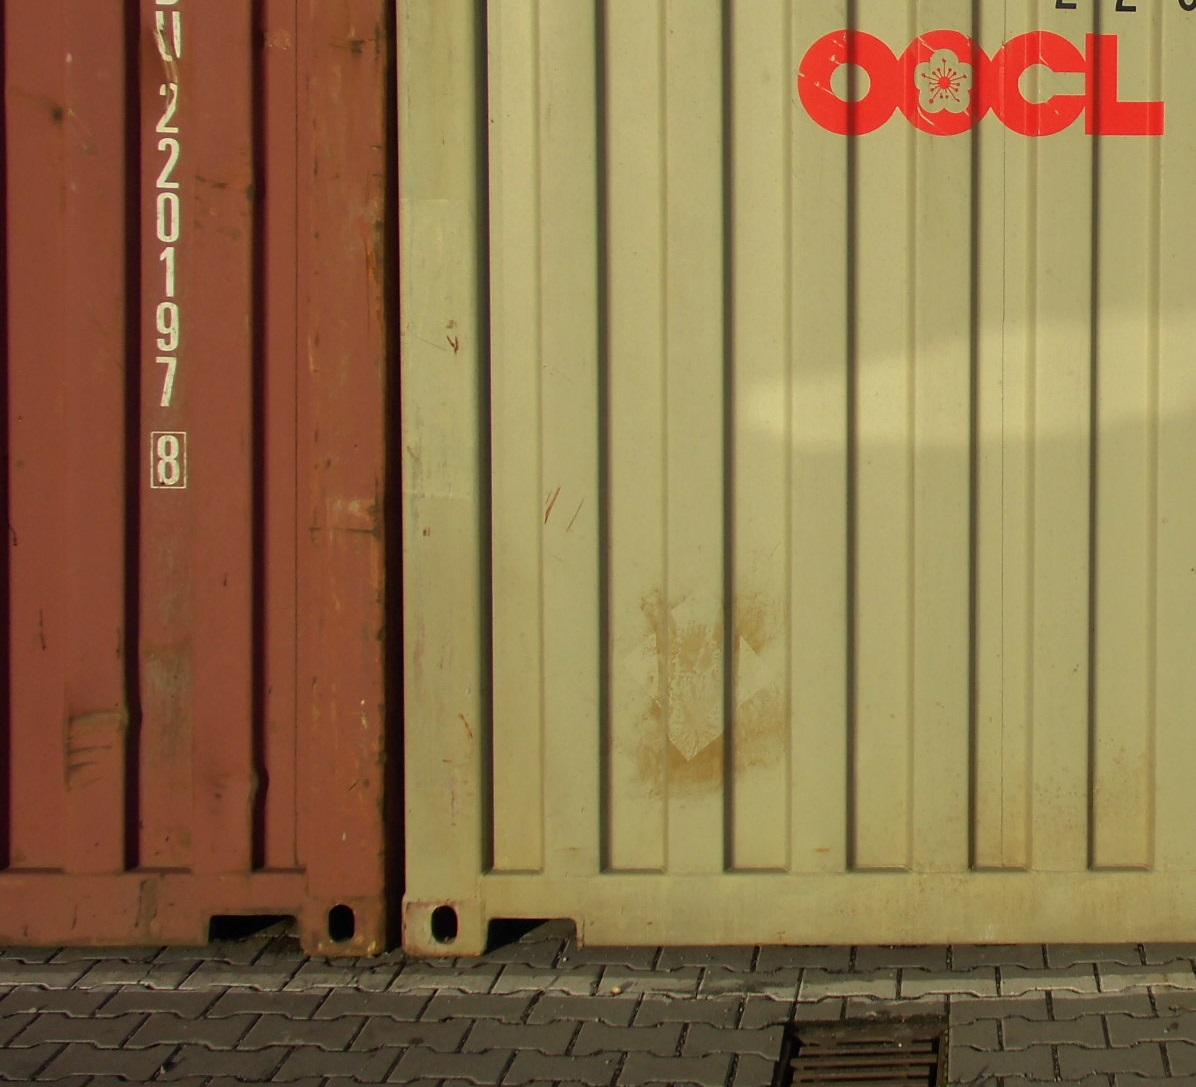container_no_door: (396, 1, 1185, 957), (1, 1, 387, 955)
